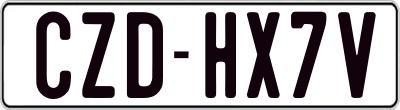7: (289, 10, 324, 97)
C: (34, 12, 69, 101)
D: (127, 11, 163, 99)
H: (204, 12, 235, 102)
V: (337, 9, 377, 96)
X: (244, 9, 282, 95)
Z: (81, 9, 116, 99)
